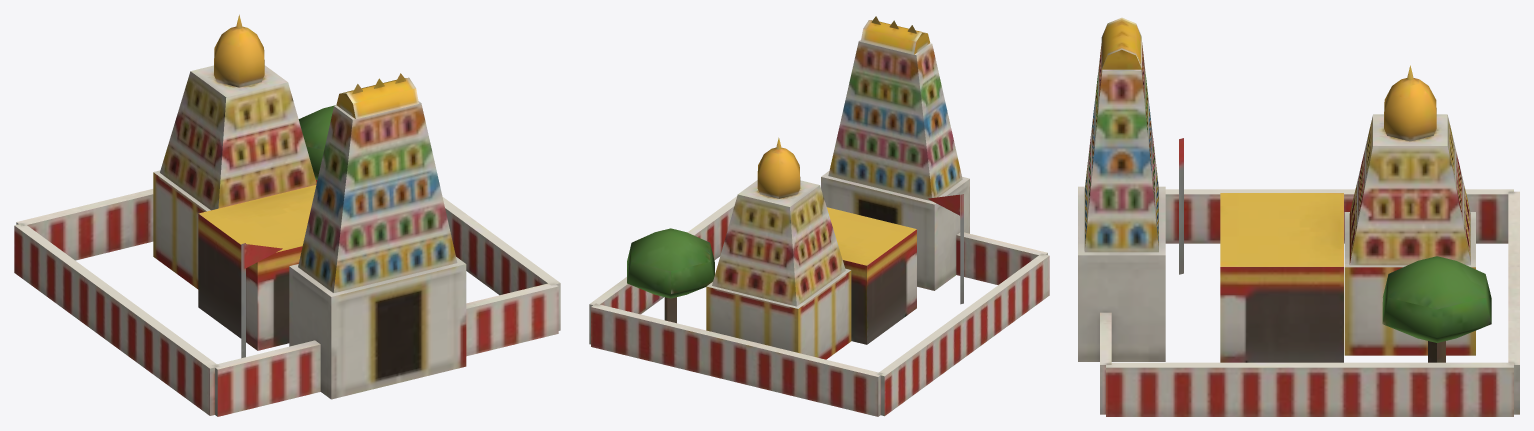
The model's file is ujjaini_mahankali_temple.glb.
The picture shows the model from 3 angles, left to right: view 1: azimuth 30°, elevation 25°; view 2: azimuth 150°, elevation 25°; view 3: azimuth 270°, elevation 25°; orthographic projection. The views are drawn at different scales.
Visible parts, largest first — view 1: ujjaini_mahankali_temple_body; view 2: ujjaini_mahankali_temple_body; view 3: ujjaini_mahankali_temple_body.
Part boxes in pixels (x1,y1,x2,y2): ujjaini_mahankali_temple_body: (14, 14, 560, 416); ujjaini_mahankali_temple_body: (589, 16, 1049, 416); ujjaini_mahankali_temple_body: (1078, 17, 1519, 416).
Size of the model in its own units: 39.5 by 31.27 by 41.35.
Materials: 2 (1 with a texture image).
